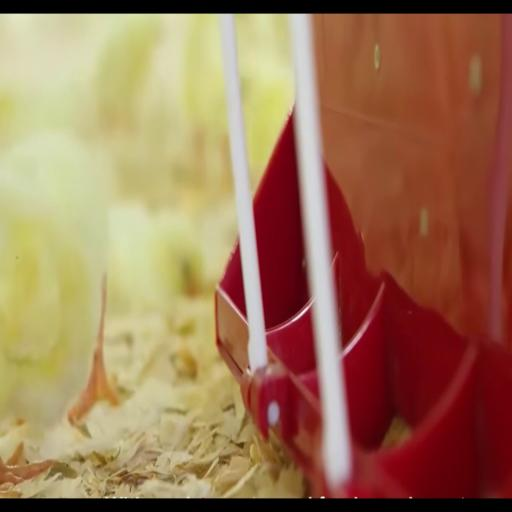chick: (0, 132, 116, 426)
